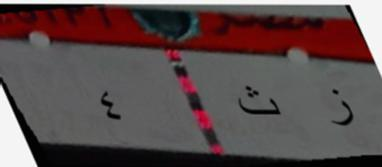4: (91, 82, 126, 133)
thaa: (230, 80, 284, 125)
zay: (322, 86, 358, 134)
